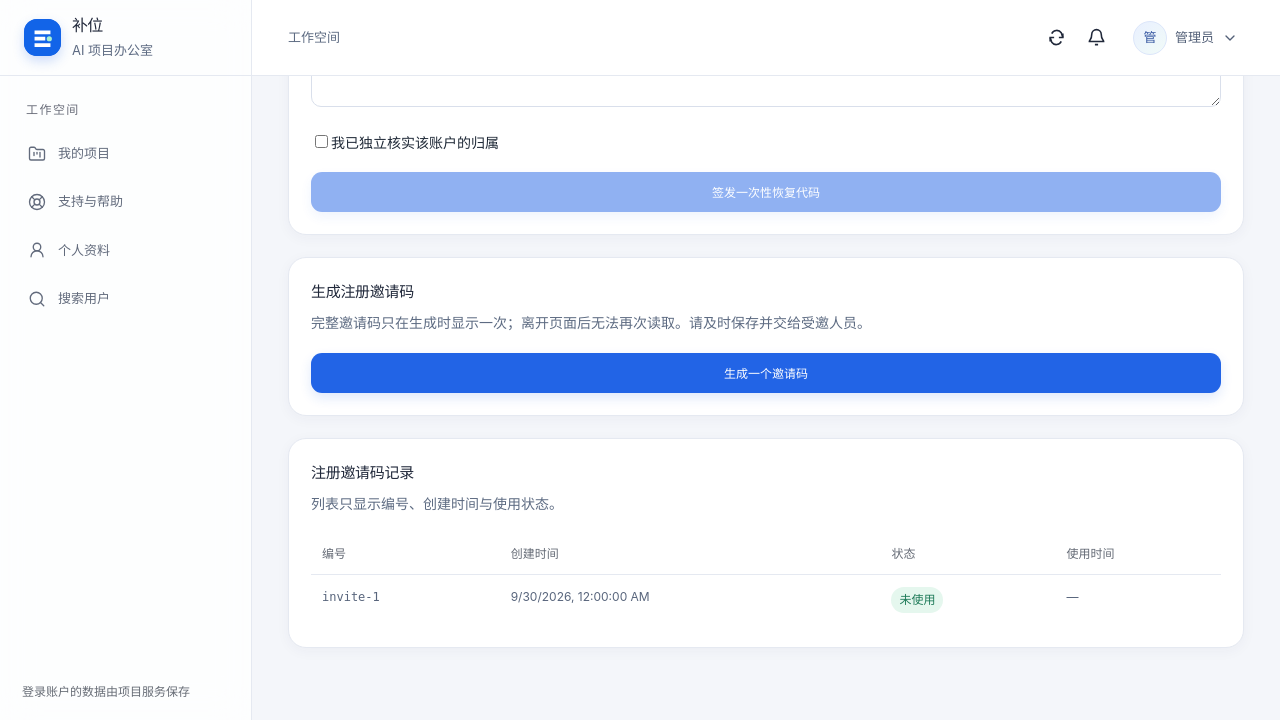
Test case: system administrator can create one invitation; a fresh list never reveals the code
This screenshot has width=1280, height=720.
(page scrolled)
Expected: the text "invite-1" is shown, [322, 590, 380, 604]
Expected: the text "ABCD1234EFGH5678" is not shown
Click the button "生成一个邀请码": (766, 373) [311, 353, 1221, 393]
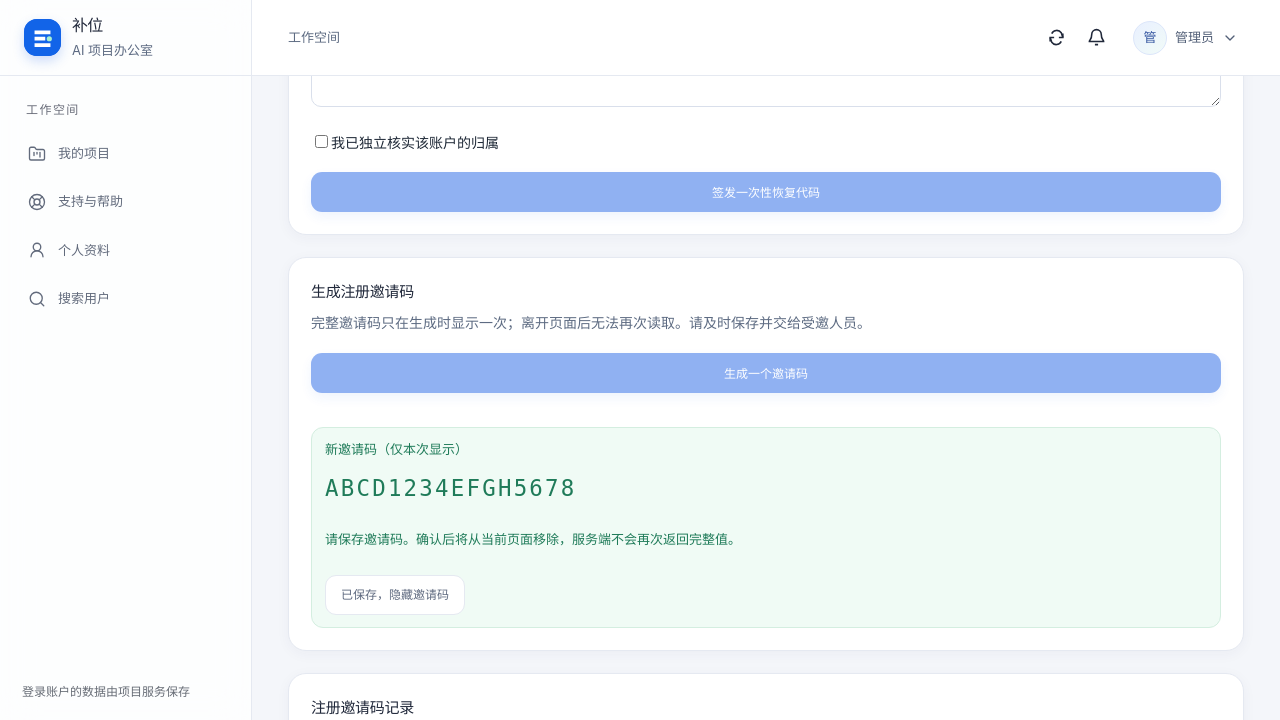
Expected: the text named "新注册邀请码" is shown, [325, 472, 576, 506]
Expected: the text named "新注册邀请码" reads "ABCD1234EFGH5678", [325, 475, 576, 501]
Expected: the button "生成一个邀请码" is disabled, [311, 353, 1221, 393]
Click the button "已保存，隐藏邀请码": (395, 595) [325, 575, 465, 615]
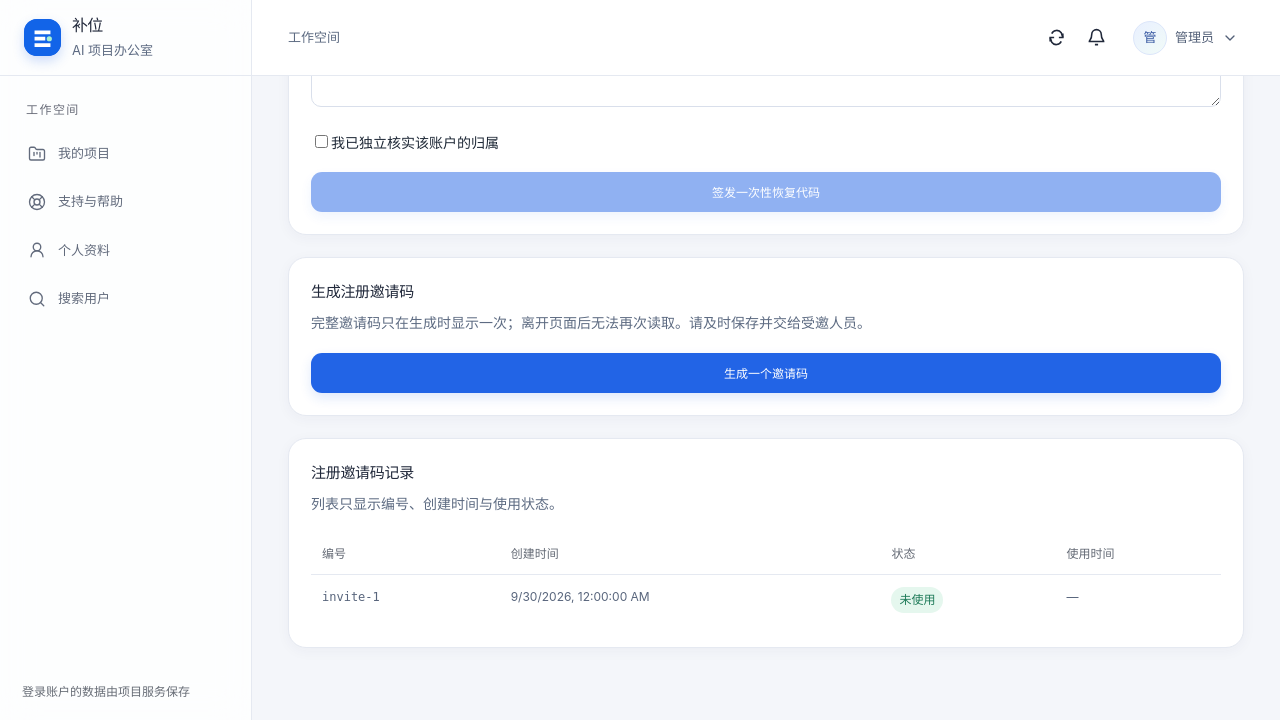
Expected: the text "ABCD1234EFGH5678" is gone
Expected: the button "生成一个邀请码" is enabled, [311, 353, 1221, 393]
